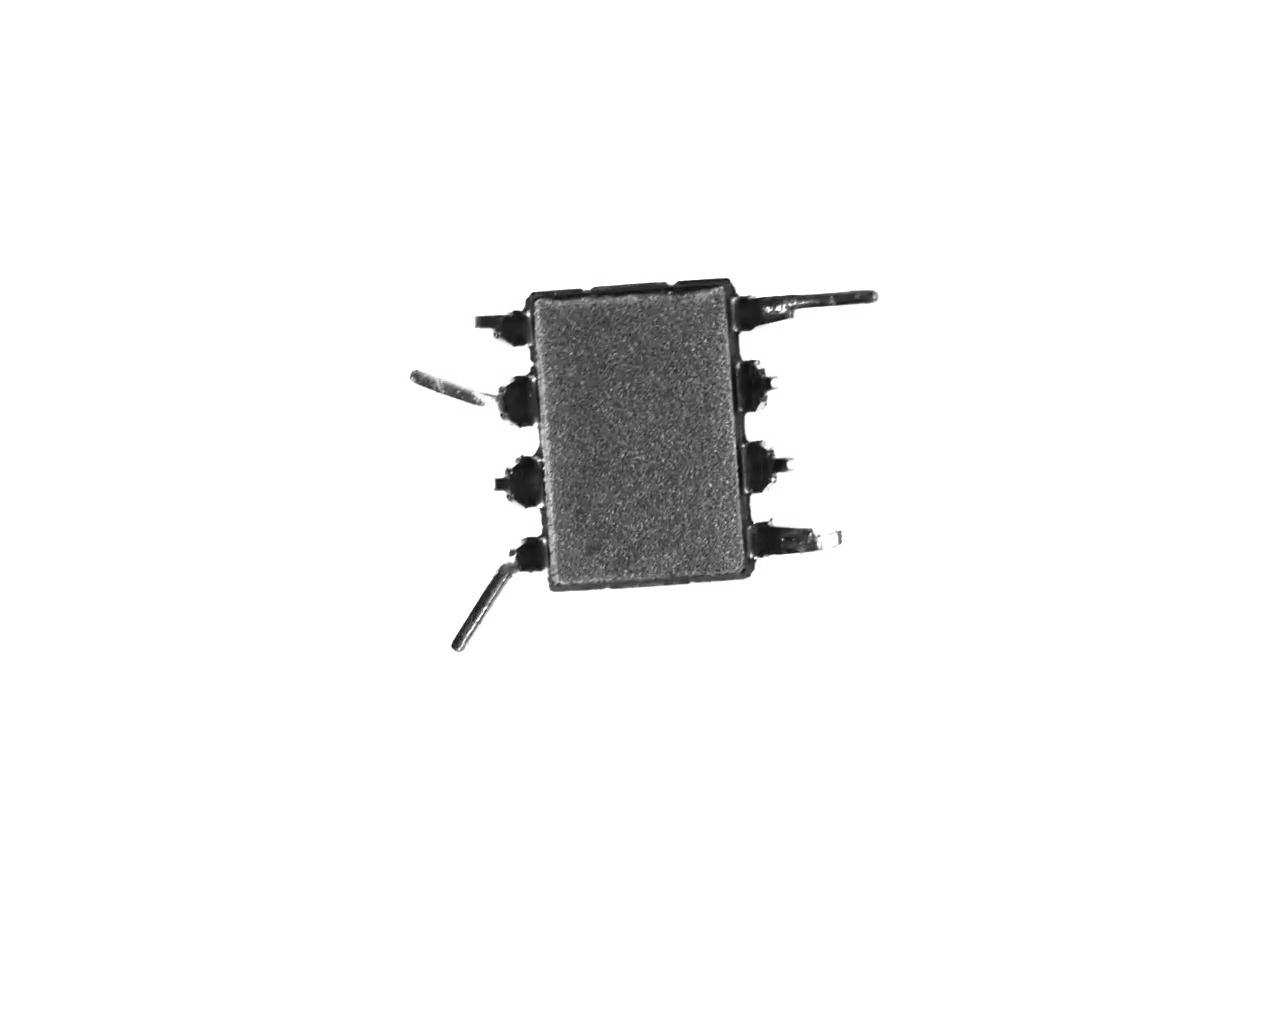Leg: (415, 525, 552, 650), (392, 355, 541, 440), (727, 284, 883, 333), (749, 506, 856, 573)
brokenLeg: (462, 450, 549, 511), (465, 299, 541, 358), (742, 440, 808, 495), (730, 349, 782, 414)
